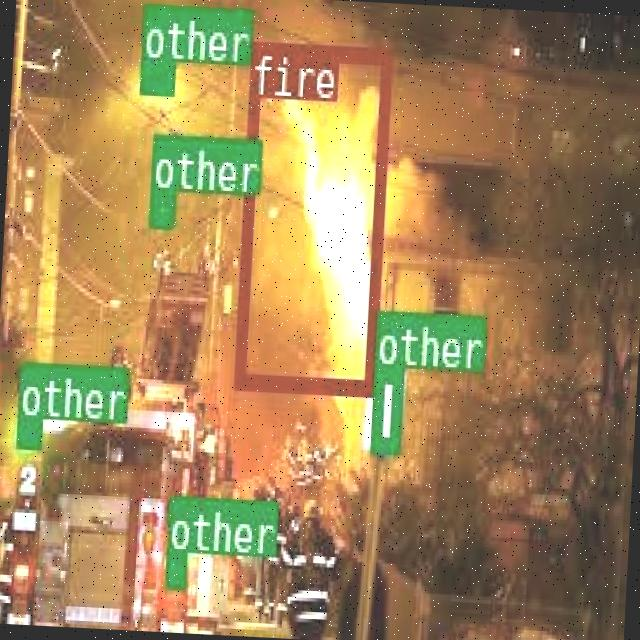fire: (232, 41, 390, 393)
